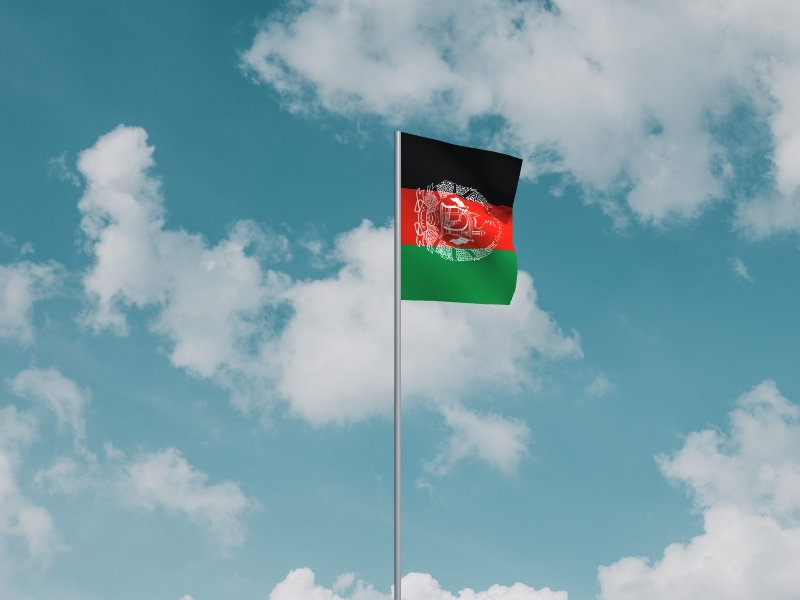af: (402, 133, 525, 306)
